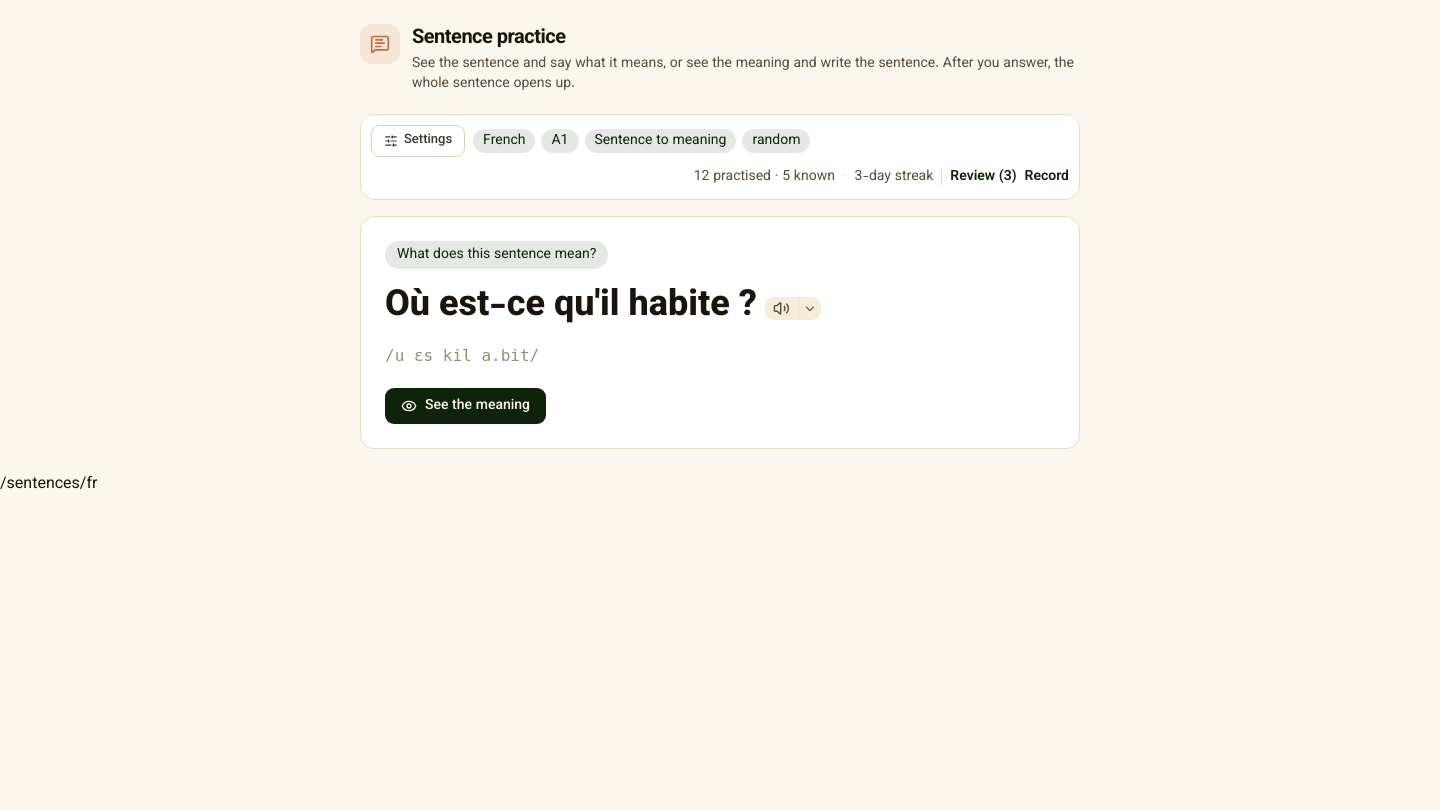
Test: settings › a unit is shown on every card while a unit is in play, with what the learner can do after it
This screenshot has width=1440, height=810.
expect the element with test id "prompt" is shown: met, box [360,216,1080,448]
Step 1. Click the button with test id "settings-open" → (418, 141), box [371,125,465,157]
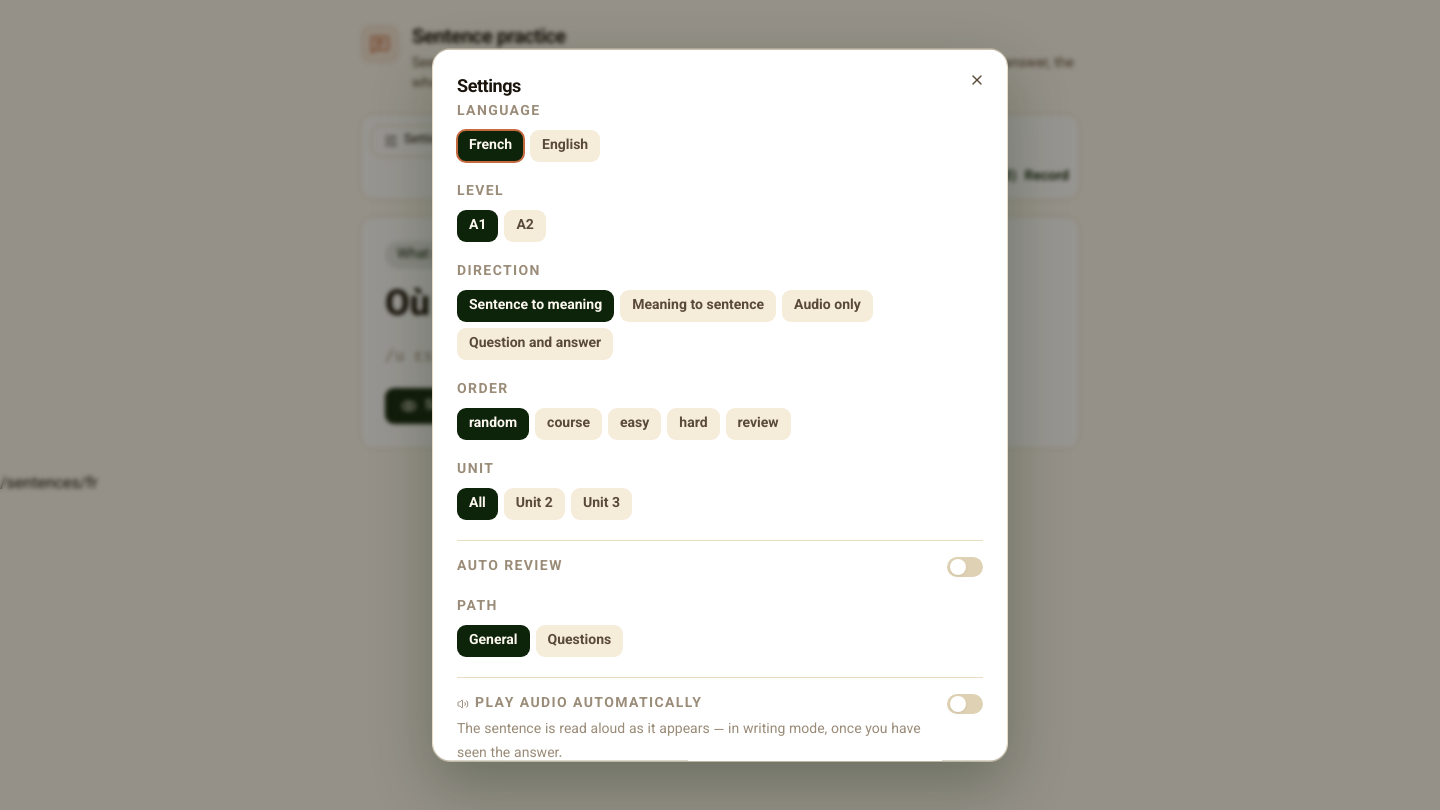
Step 2. Click the button with test id "pick-unit-2" → (534, 504), box [504,488,565,520]
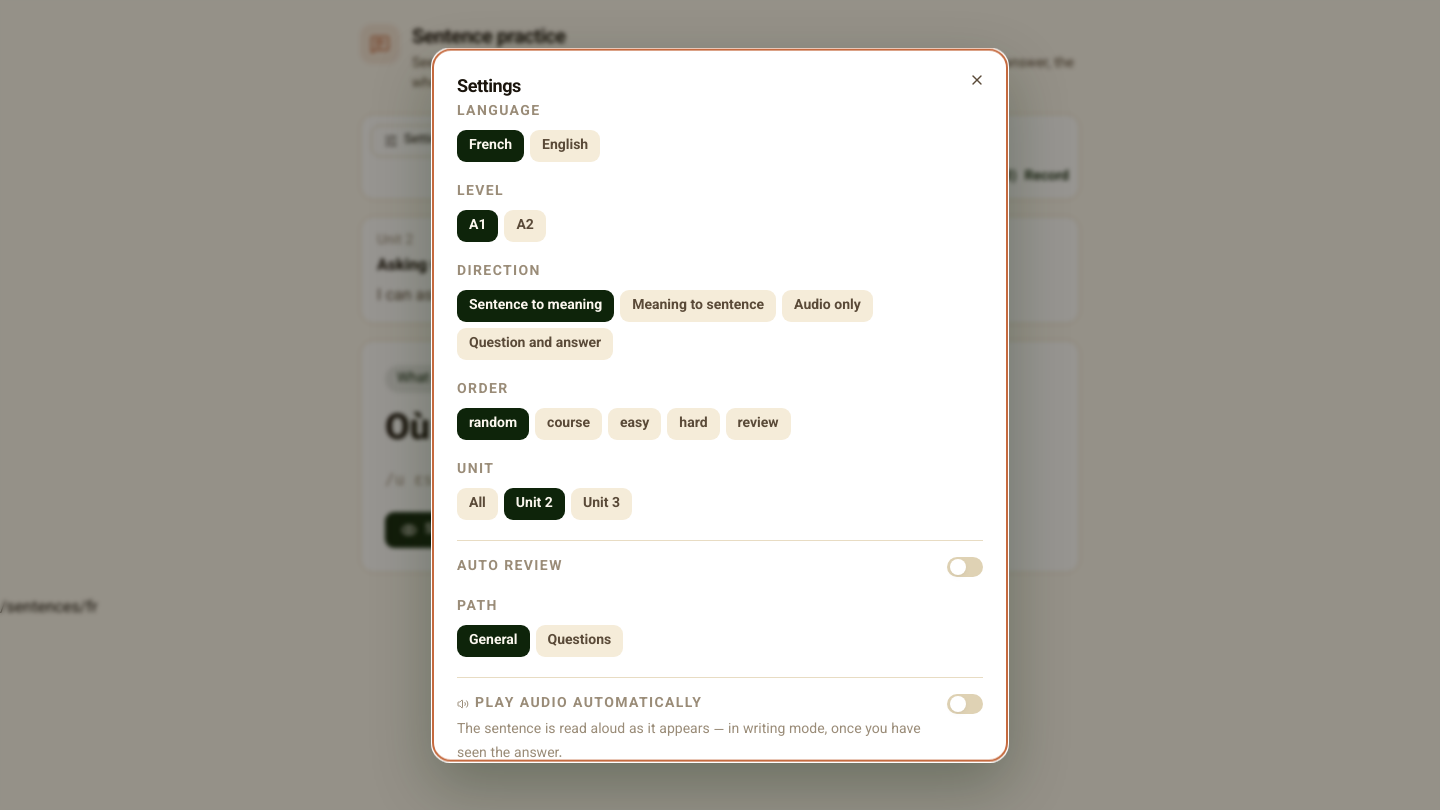
expect the element with test id "unit-box" shows "Asking where": met, box [377,254,475,279]
